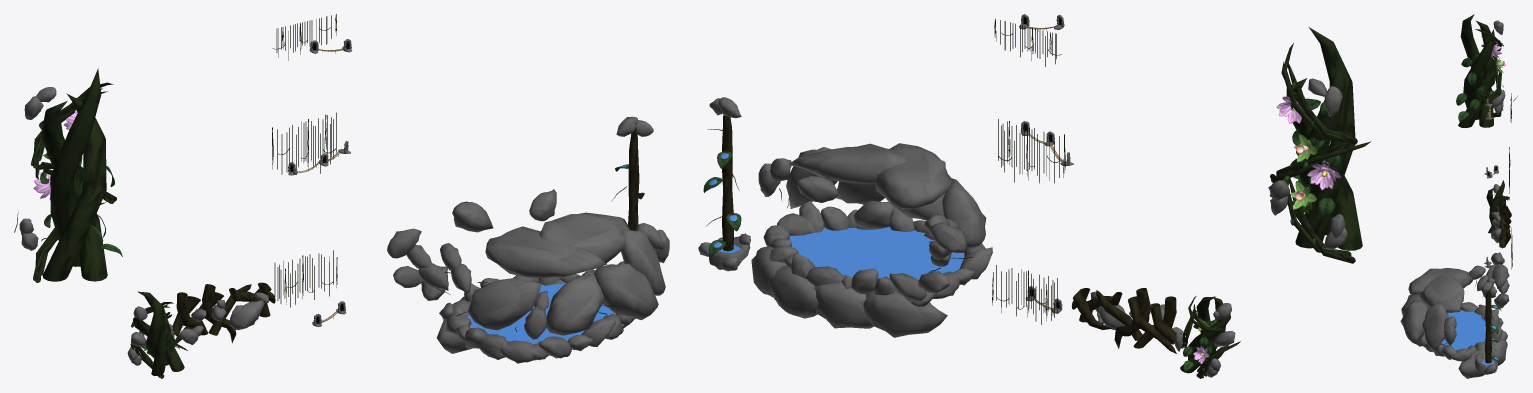
File: background_levelpreboss_complet.fbx
3 renders of one model, left to right at view 1: azimuth 30°, elevation 25°; view 2: azimuth 150°, elevation 25°; view 3: azimuth 270°, elevation 25°, orthographic. The views are drawn at different scales.
Parts seen in each view (by area): view 1: pCylinder353 (×2), pCube78, pCylinder354, pCube77, pCube70, pCube69, pCube18, pCylinder352, pCube76, pPlane4, pCylinder343, pCube22 (+10 smaller); view 2: pPlane4, pCube78, pCube77, pCylinder353, pCube74, pCube73, pCube72, pCube70, pCylinder354, pCylinder343, pCylinder352, pCube71 (+17 smaller); view 3: pCube77, pPlane4, pCylinder353 (×2), pCylinder352, pCube76, pCube18, pCube78, pCylinder354, pCylinder343, pCube71, pCube22, pCube72 (+13 smaller).
Part boxes in pixels (bbox=[...]): pCylinder353 (×2): bbox=[50, 68, 171, 375]; pCube78: bbox=[485, 226, 607, 278]; pCylinder354: bbox=[42, 93, 106, 281]; pCube77: bbox=[539, 212, 630, 263]; pCube70: bbox=[468, 278, 541, 330]; pCube69: bbox=[546, 273, 604, 335]; pCube18: bbox=[594, 263, 658, 320]; pCylinder352: bbox=[40, 101, 107, 281]; pCube76: bbox=[621, 230, 665, 295]; pPlane4: bbox=[467, 283, 623, 344]; pCylinder343: bbox=[628, 123, 639, 230]; pCube22: bbox=[452, 201, 493, 232]; pPlane4: bbox=[789, 227, 964, 279]; pCube78: bbox=[875, 143, 954, 209]; pCube77: bbox=[788, 143, 906, 184]; pCylinder353: bbox=[1295, 27, 1355, 248]; pCube74: bbox=[863, 289, 947, 337]; pCube73: bbox=[814, 275, 873, 328]; pCube72: bbox=[768, 265, 818, 318]; pCube70: bbox=[942, 178, 986, 248]; pCylinder354: bbox=[1286, 78, 1362, 250]; pCylinder343: bbox=[722, 115, 733, 251]; pCylinder352: bbox=[1299, 62, 1346, 235]; pCube71: bbox=[751, 246, 786, 297]; pCube77: bbox=[1419, 274, 1464, 312]; pPlane4: bbox=[1441, 310, 1485, 350]; pCylinder353 (×2): bbox=[1460, 14, 1504, 225]; pCylinder352: bbox=[1458, 20, 1497, 127]; pCube76: bbox=[1422, 303, 1448, 352]; pCube18: bbox=[1400, 300, 1428, 343]; pCube78: bbox=[1408, 268, 1471, 294]; pCylinder354: bbox=[1463, 29, 1495, 119]; pCylinder343: bbox=[1485, 291, 1491, 363]; pCube71: bbox=[1458, 350, 1495, 378]; pCube22: bbox=[1492, 264, 1509, 288]; pCube72: bbox=[1491, 338, 1507, 365].
Size of the model in its own units: 390 by 224 by 110.
